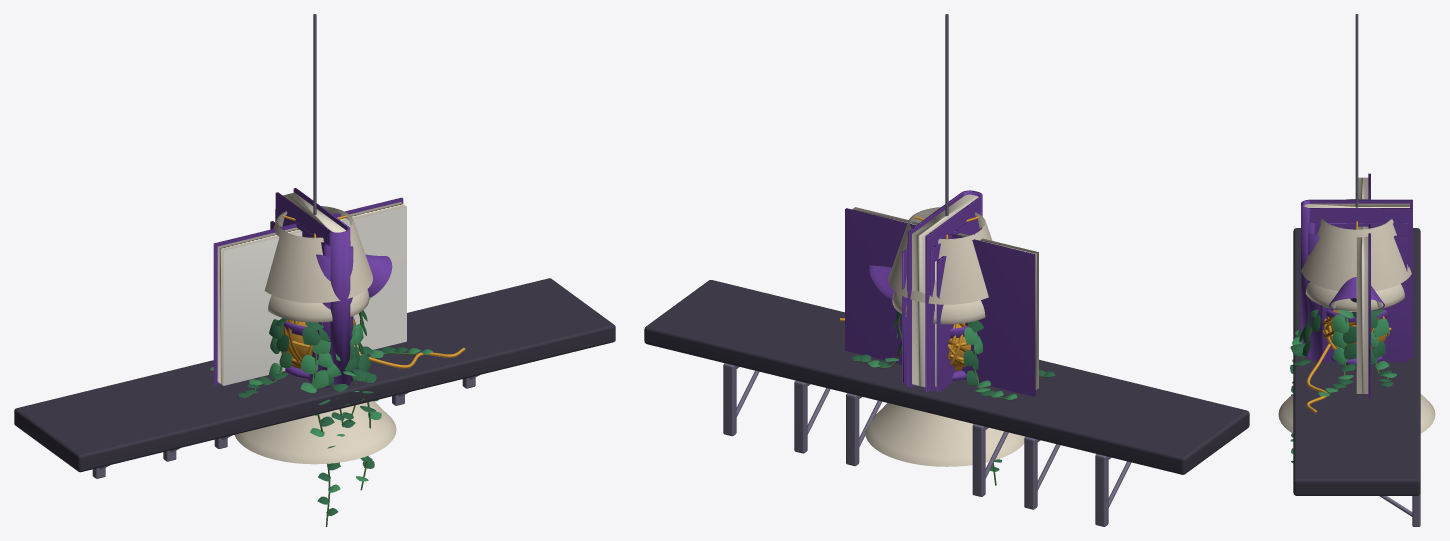
File: props.glb
3 views of the same model, side by side, from view 1: azimuth 30°, elevation 25°; view 2: azimuth 150°, elevation 25°; view 3: azimuth 270°, elevation 25° (orthographic). The views are drawn at different scales.
Parts seen in each view (by area): view 1: ShelfLarge, BookOpenLeft, PlantPot, LampPendant, BookOpenLeaf, LampClassic, BookTall, ShelfMedium, ShelfSmall, LampMushroom, YarnBall, BookThick (+2 smaller); view 2: ShelfLarge, BookOpenLeft, BookOpenRight, LampPendant, BookTall, LampClassic, ShelfSmall, ShelfMedium, BookThick, PlantPot, LampMushroom, Book (+1 smaller); view 3: ShelfLarge, LampClassic, BookTall, PlantPot, BookThick, BookOpenRight, LampMushroom, Book, LampPendant, YarnBall, LampPendantCord, ShelfMedium (+3 smaller).
Part boxes in pixels (left/top/right/bottom): ShelfLarge: left=14, top=278, right=615, bottom=478; BookOpenLeft: left=213, top=223, right=302, bottom=385; PlantPot: left=210, top=296, right=433, bottom=526; LampPendant: left=234, top=401, right=396, bottom=464; BookOpenLeaf: left=343, top=206, right=406, bottom=352; LampClassic: left=264, top=206, right=373, bottom=366; BookTall: left=275, top=188, right=350, bottom=387; ShelfMedium: left=118, top=303, right=513, bottom=461; ShelfSmall: left=193, top=360, right=437, bottom=448; LampMushroom: left=268, top=289, right=369, bottom=379; YarnBall: left=283, top=317, right=465, bottom=368; BookThick: left=270, top=221, right=353, bottom=387; ShelfLarge: left=644, top=280, right=1249, bottom=526; BookOpenLeft: left=950, top=233, right=1038, bottom=396; BookOpenRight: left=845, top=207, right=918, bottom=364; LampPendant: left=865, top=403, right=1024, bottom=466; BookTall: left=907, top=190, right=982, bottom=392; LampClassic: left=888, top=207, right=992, bottom=370; ShelfSmall: left=823, top=370, right=1008, bottom=496; ShelfMedium: left=747, top=304, right=1145, bottom=509; BookThick: left=902, top=227, right=981, bottom=392; PlantPot: left=851, top=311, right=1055, bottom=485; LampMushroom: left=892, top=291, right=985, bottom=381; Book: left=907, top=211, right=982, bottom=391; ShelfLarge: left=1293, top=228, right=1420, bottom=526; LampClassic: left=1301, top=199, right=1411, bottom=290; BookTall: left=1301, top=199, right=1412, bottom=358; PlantPot: left=1290, top=300, right=1397, bottom=462; BookThick: left=1308, top=233, right=1407, bottom=362; BookOpenRight: left=1357, top=224, right=1370, bottom=397; LampMushroom: left=1305, top=282, right=1404, bottom=366; Book: left=1308, top=222, right=1409, bottom=359; LampPendant: left=1278, top=394, right=1435, bottom=433; YarnBall: left=1306, top=308, right=1391, bottom=413; LampPendantCord: left=1355, top=14, right=1358, bottom=207; ShelfMedium: left=1293, top=276, right=1419, bottom=433.
Bounding box in the file's own units: 1.6 × 1.38 × 0.42.
